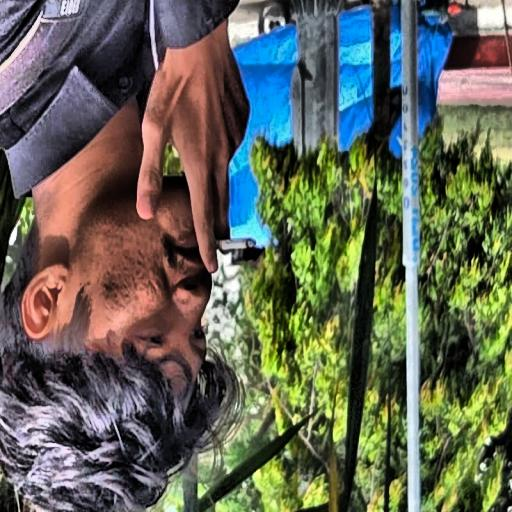Merokok: (218, 238, 256, 253)
Rokok: (21, 25, 255, 374)
